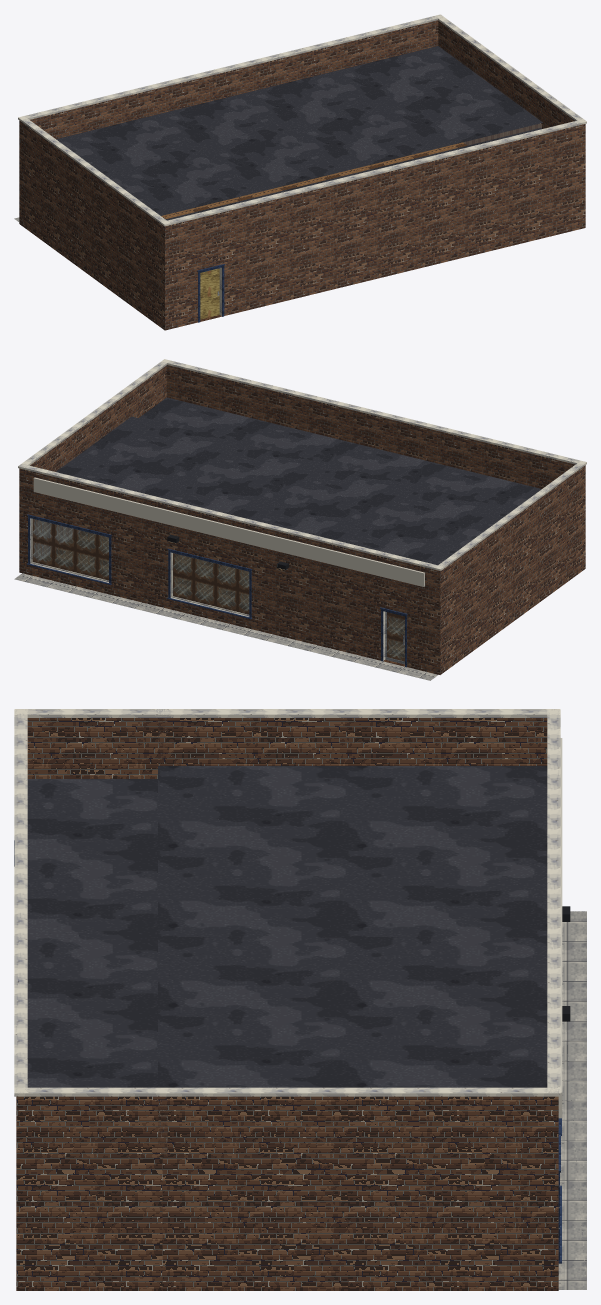
File: COM_Storefront_B.glb
3 views of the same model, one above another, from view 1: azimuth 30°, elevation 25°; view 2: azimuth 150°, elevation 25°; view 3: azimuth 270°, elevation 25° (orthographic). The views are drawn at different scales.
Parts seen in each view (by area): view 1: COM_Storefront_B_Exterior, COM_Storefront_B_Interior, INT_Door_BackExit; view 2: COM_Storefront_B_Exterior, COM_Storefront_B_Interior, INT_Door_Entrance; view 3: COM_Storefront_B_Exterior.
Part boxes in pixels (box(x1,y1,x2,y2)): COM_Storefront_B_Exterior: box(14, 14, 586, 330); COM_Storefront_B_Interior: box(161, 123, 541, 219); INT_Door_BackExit: box(200, 268, 219, 319); COM_Storefront_B_Exterior: box(14, 359, 586, 680); COM_Storefront_B_Interior: box(33, 520, 404, 659); INT_Door_Entrance: box(385, 611, 404, 664); COM_Storefront_B_Exterior: box(14, 709, 586, 1290).
Size of what is drawn, in the model's own units: 19.28 by 4.67 by 12.15.
Materials: 16 (16 with a texture image).
